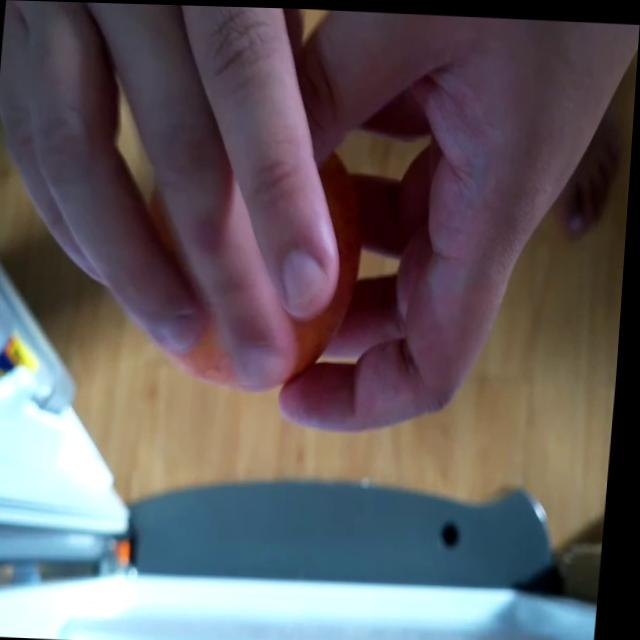apple: (152, 137, 379, 383)
